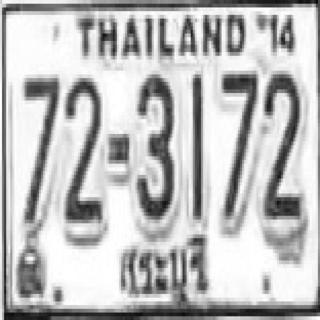N01: (192, 71, 202, 219)
N02: (62, 74, 101, 234), (260, 67, 300, 220), (62, 74, 101, 223)
N03: (135, 71, 172, 216)
N07: (220, 69, 256, 233), (22, 73, 58, 229)
P60: (115, 231, 216, 312)
